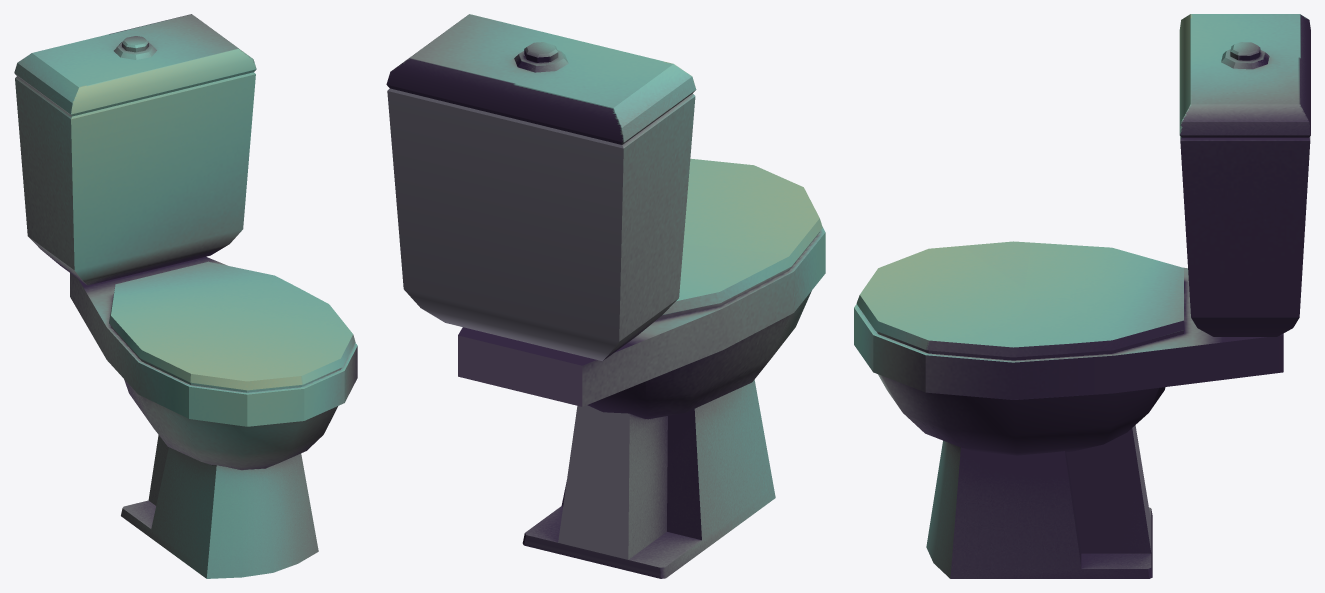
File: Toilet.glb
The picture shows the model from 3 angles, left to right: view 1: azimuth 30°, elevation 25°; view 2: azimuth 150°, elevation 25°; view 3: azimuth 270°, elevation 25°; orthographic projection. The views are drawn at different scales.
Visible parts, largest first — view 1: Bathroom_Toilet, Bathroom_Toilet_Lid; view 2: Bathroom_Toilet, Bathroom_Toilet_Lid; view 3: Bathroom_Toilet, Bathroom_Toilet_Lid.
Part boxes in pixels (bbox=[...]): Bathroom_Toilet: bbox=[14, 14, 357, 578]; Bathroom_Toilet_Lid: bbox=[109, 261, 355, 390]; Bathroom_Toilet: bbox=[386, 14, 825, 578]; Bathroom_Toilet_Lid: bbox=[663, 158, 822, 314]; Bathroom_Toilet: bbox=[854, 14, 1310, 578]; Bathroom_Toilet_Lid: bbox=[856, 241, 1183, 357].
Size of the model in its own units: 0.4897 by 1.04 by 0.8589.
Materials: 1 (1 with a texture image).
